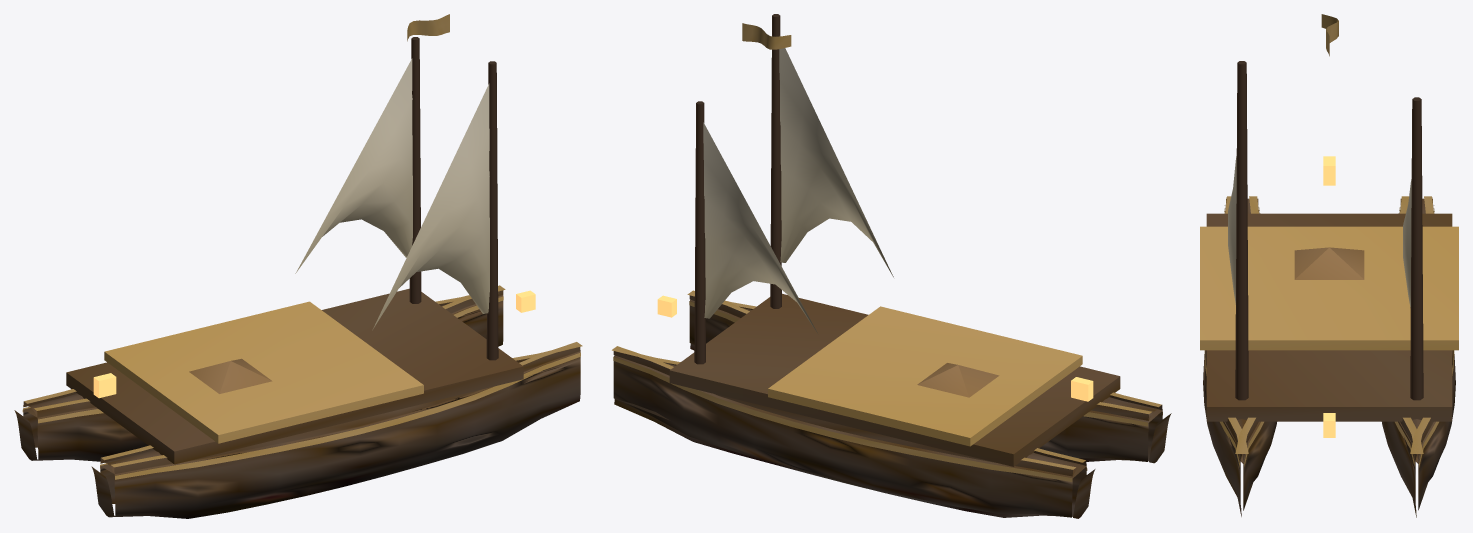
File: garden-hero-barquentine.glb
The picture shows the model from 3 angles, left to right: view 1: azimuth 30°, elevation 25°; view 2: azimuth 150°, elevation 25°; view 3: azimuth 270°, elevation 25°; orthographic projection. The views are drawn at different scales.
Parts seen in each view (by area): view 1: wood-hull, trim-hull, sail-hull, spar-hull, glow-hull; view 2: wood-hull, trim-hull, sail-hull, spar-hull, glow-hull; view 3: wood-hull, trim-hull, spar-hull, sail-hull, glow-hull.
Part boxes in pixels (left/top/right/bottom): wood-hull: left=14, top=14, right=582, bottom=518; trim-hull: left=22, top=296, right=580, bottom=479; sail-hull: left=295, top=58, right=489, bottom=330; spar-hull: left=409, top=37, right=498, bottom=360; glow-hull: left=93, top=290, right=535, bottom=398; wood-hull: left=612, top=23, right=1171, bottom=518; trim-hull: left=613, top=301, right=1162, bottom=481; sail-hull: left=703, top=48, right=893, bottom=333; spar-hull: left=694, top=14, right=781, bottom=364; glow-hull: left=657, top=295, right=1093, bottom=401; wood-hull: left=1203, top=14, right=1455, bottom=517; trim-hull: left=1200, top=205, right=1458, bottom=467; spar-hull: left=1235, top=61, right=1423, bottom=400; sail-hull: left=1228, top=156, right=1411, bottom=307; glow-hull: left=1323, top=156, right=1335, bottom=437.
Size of the model in its own units: 9.38 by 7.57 by 3.85.
